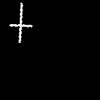single_crochet: (10, 3, 31, 42)
